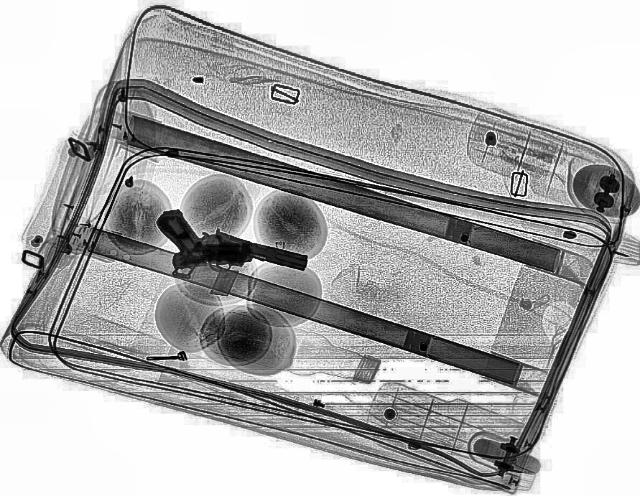Gun: (169, 226, 311, 304), (152, 198, 256, 272)
